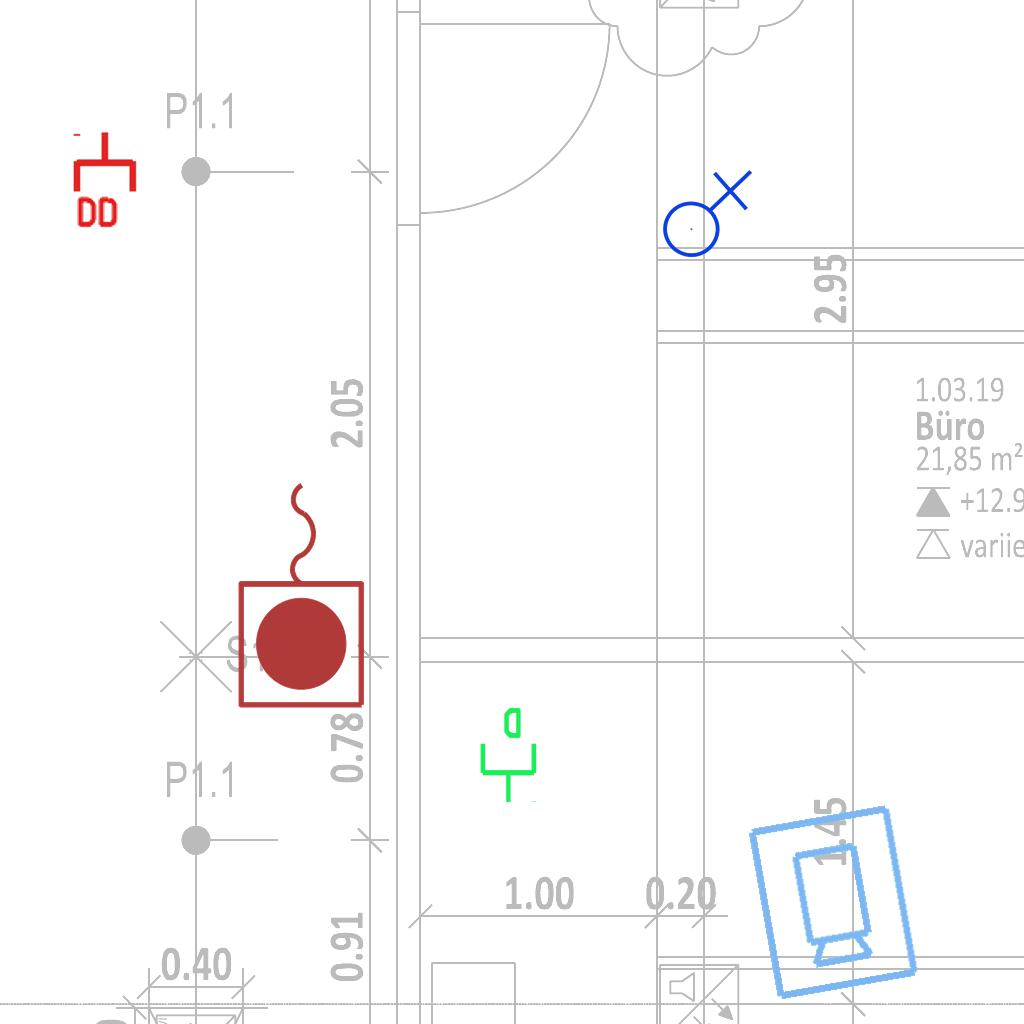Datenanschluss_einfach: (472, 705, 541, 805)
Datenanschluss_zweifach: (72, 129, 141, 232)
Elektroanschluss_allgemein_230V_Geraeteanschlussdose_230V: (654, 165, 753, 259)
KFO_Kamera_mit_Festobjektiv: (740, 799, 924, 1005)
Zugtaster: (231, 472, 375, 716)
